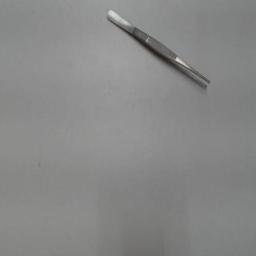Gillies Toothed Dissector: (103, 4, 215, 96)
